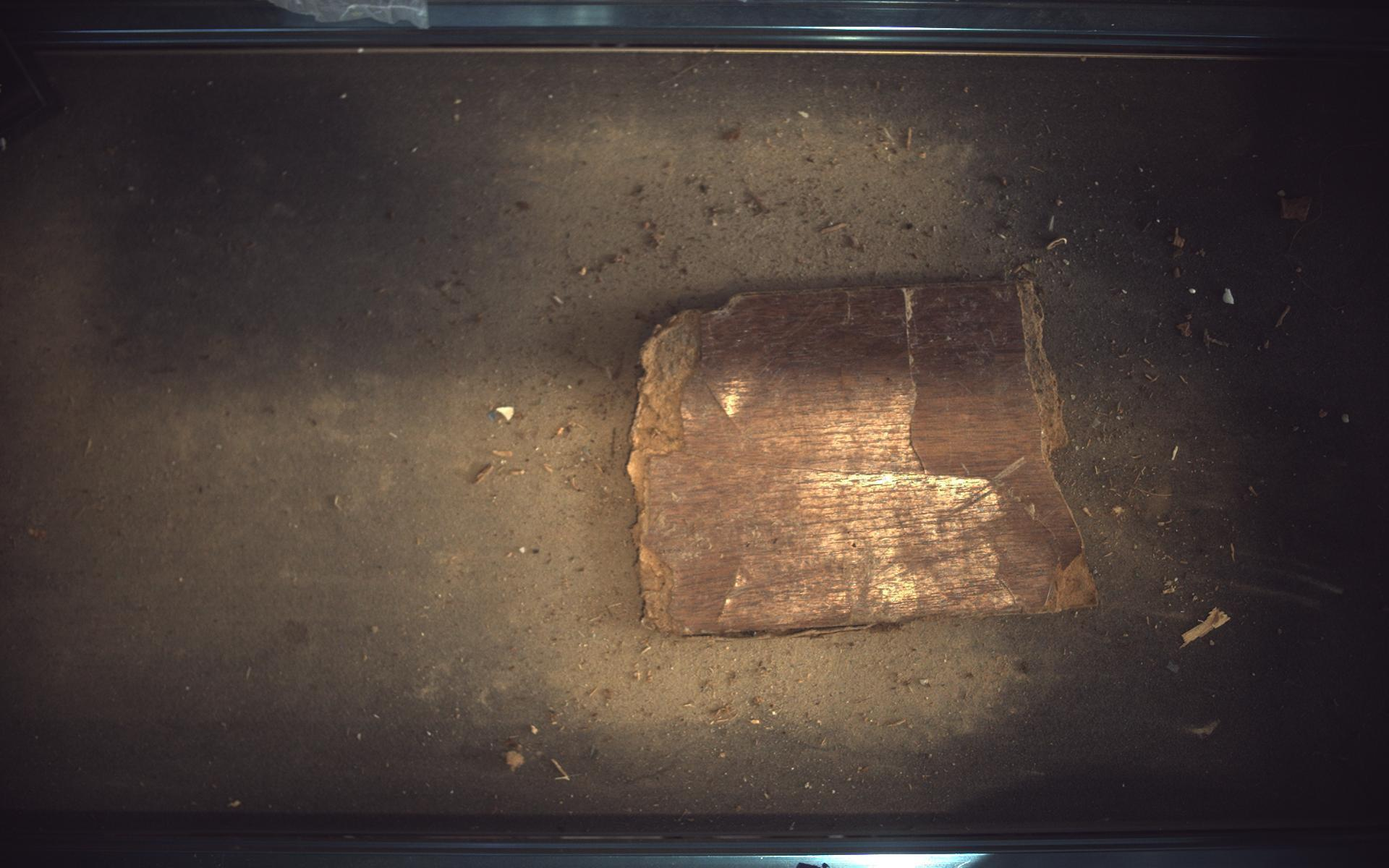wood: (628, 277, 1100, 635)
